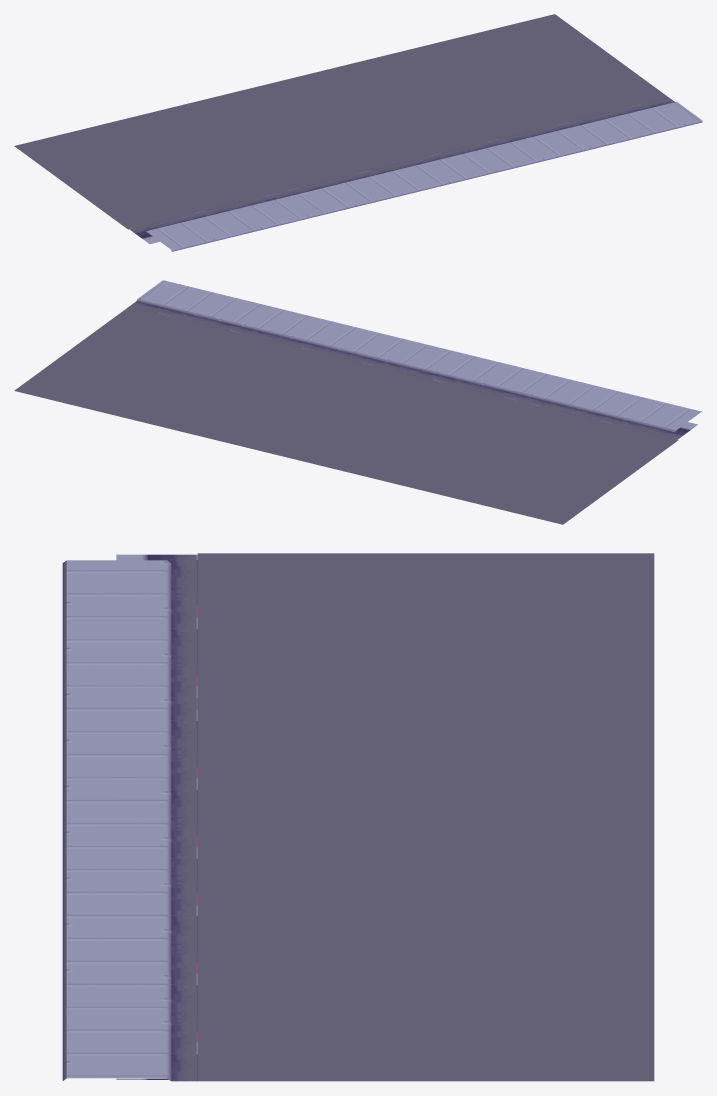
The model's file is TopMiddleRoad.fbx.
3 renders of one model, top to bottom at view 1: azimuth 30°, elevation 25°; view 2: azimuth 150°, elevation 25°; view 3: azimuth 270°, elevation 25°, orthographic. The views are drawn at different scales.
Parts seen in each view (by area): view 1: Cube.022; view 2: Cube.022; view 3: Cube.022.
Part boxes in pixels (bbox=[...]): Cube.022: bbox=[14, 14, 702, 251]; Cube.022: bbox=[14, 280, 702, 524]; Cube.022: bbox=[62, 553, 654, 1081].
Size of the model in its own units: 1149 by 3.14 by 545.
